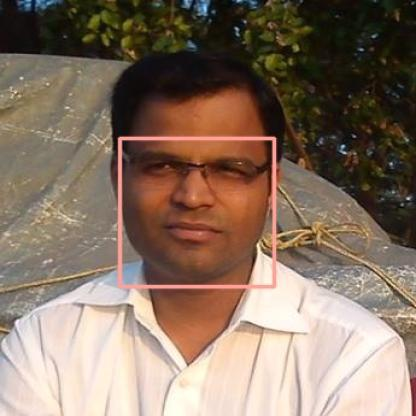without_mask: (119, 138, 274, 286)
